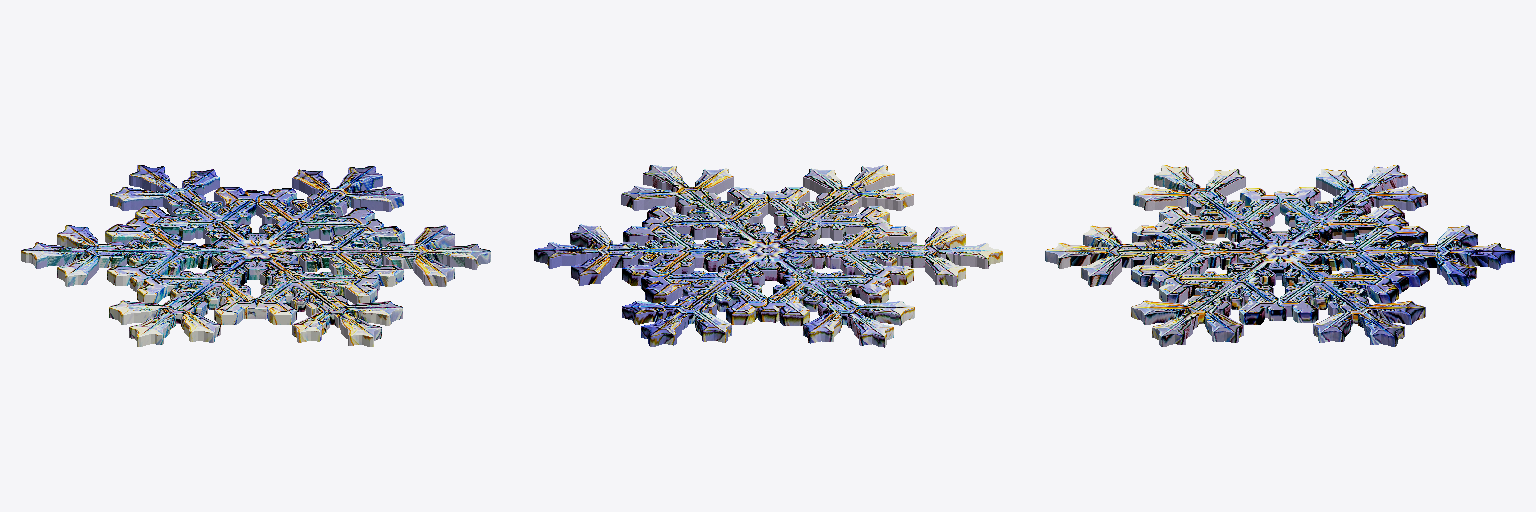
The picture shows the model from 3 angles: view 1: azimuth 30°, elevation 25°; view 2: azimuth 150°, elevation 25°; view 3: azimuth 270°, elevation 25°; orthographic projection.
Visible parts, largest first — view 1: Snowflake3_CUBezierCurve.003; view 2: Snowflake3_CUBezierCurve.003; view 3: Snowflake3_CUBezierCurve.003.
Part boxes in pixels (bbox=[...]): Snowflake3_CUBezierCurve.003: bbox=[21, 165, 490, 346]; Snowflake3_CUBezierCurve.003: bbox=[534, 165, 1002, 347]; Snowflake3_CUBezierCurve.003: bbox=[1045, 165, 1514, 346].
Bounding box in the file's own units: 8.89 × 0.244 × 10.26.
Materials: 1 (1 with a texture image).